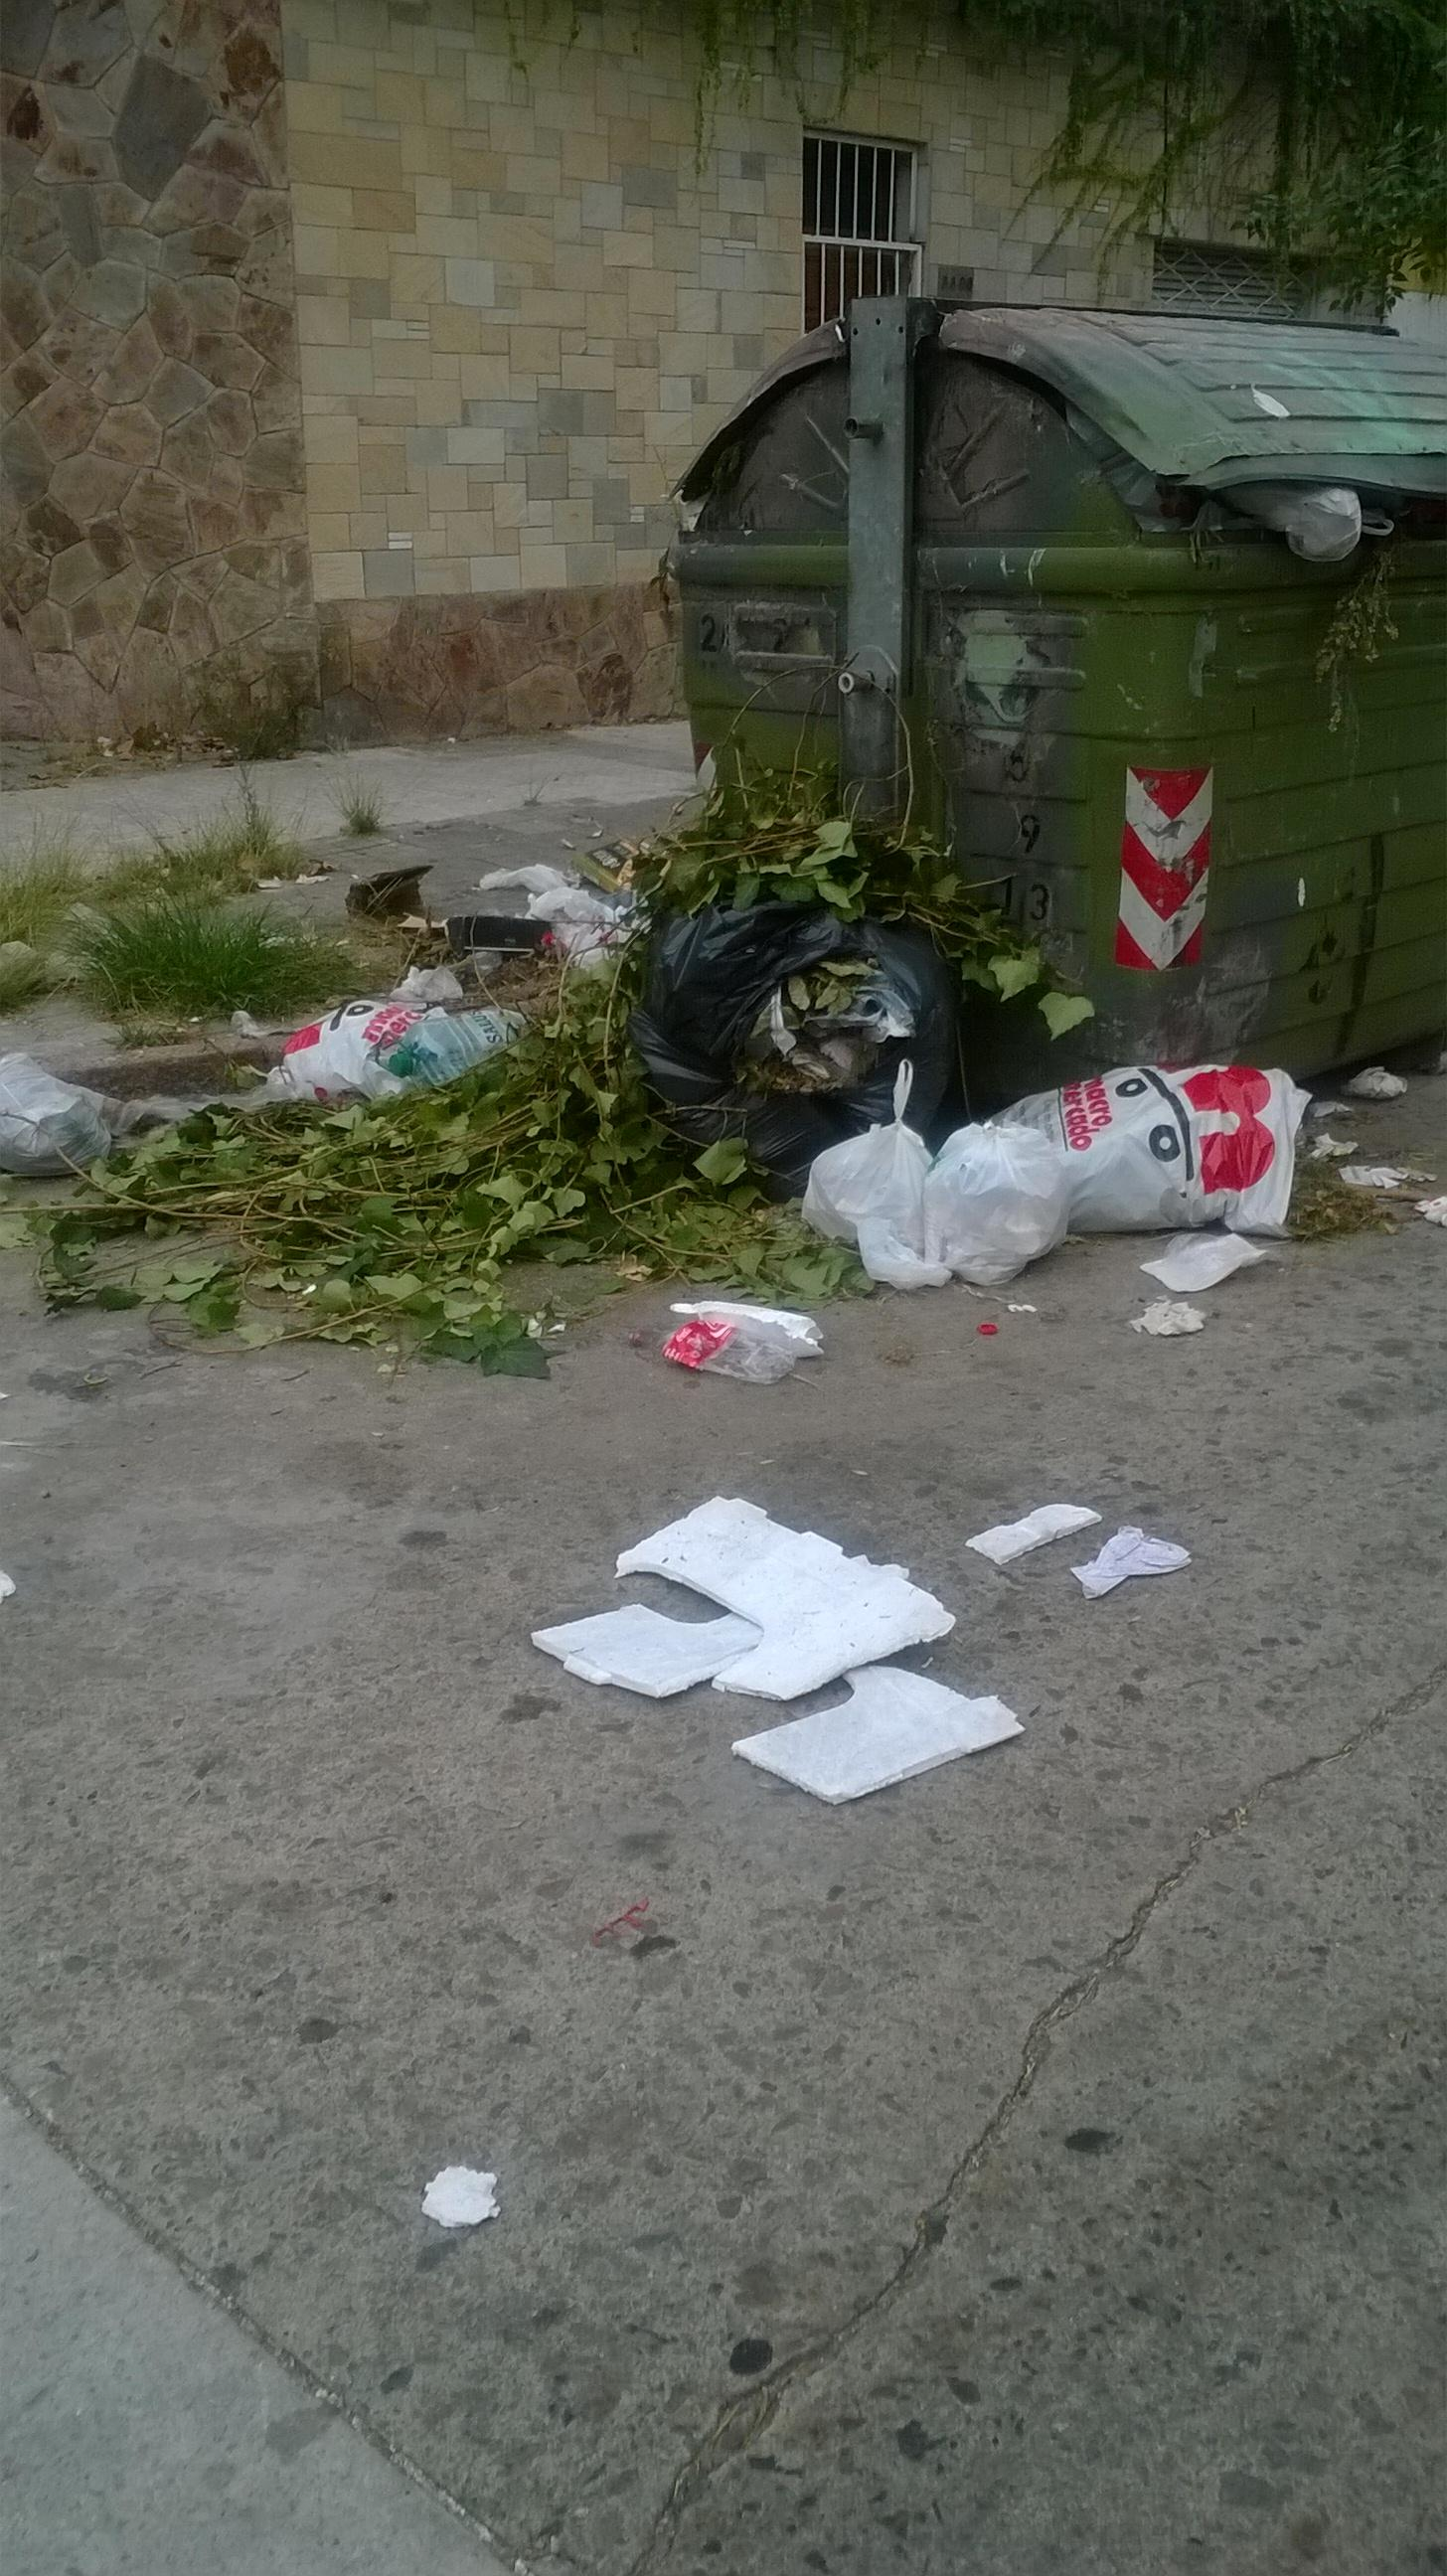Dechets: (502, 1288, 1203, 1844), (195, 931, 920, 1403), (520, 1491, 1035, 1808), (775, 1099, 1357, 1267), (1118, 1223, 1258, 1387), (0, 1044, 136, 1175), (398, 2162, 543, 2250), (1070, 1525, 1196, 1606), (966, 1502, 1107, 1569), (347, 860, 439, 934)
Trash: (665, 288, 1445, 1053)
